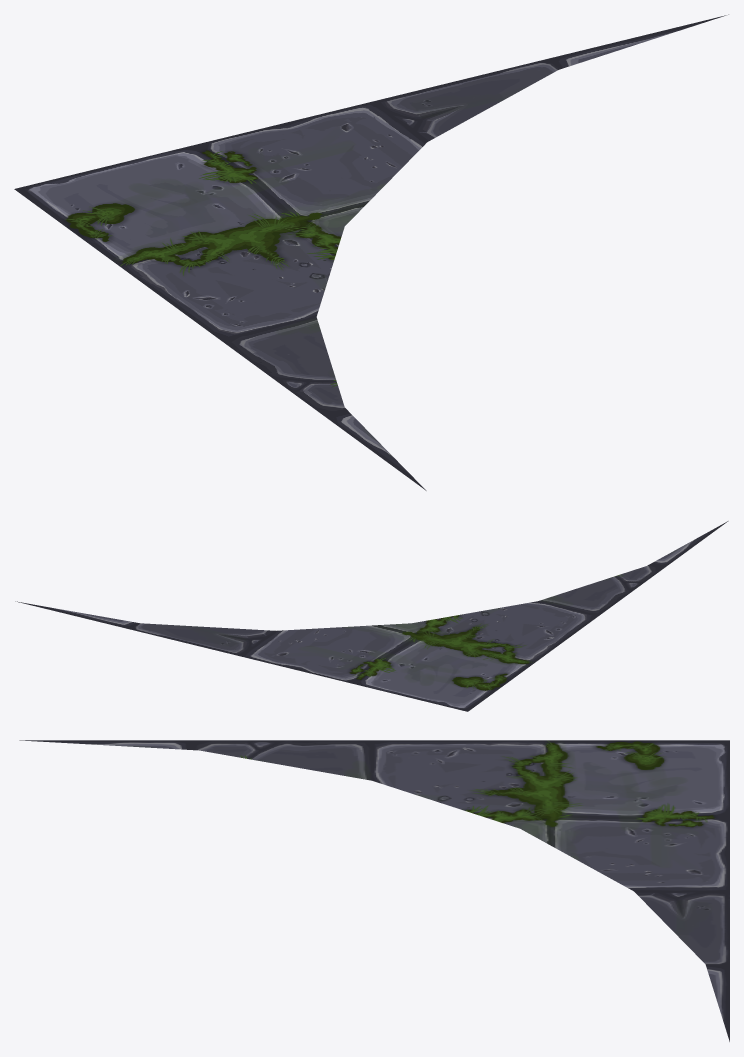
Rendered from MOD_Floor_01_O_concave_med.fbx.
The picture shows the model from 3 angles, top to bottom: view 1: azimuth 30°, elevation 25°; view 2: azimuth 150°, elevation 25°; view 3: azimuth 270°, elevation 25°; orthographic projection. The views are drawn at different scales.
Visible parts, largest first — view 1: MOD_Floor_01_O_concave_med; view 2: MOD_Floor_01_O_concave_med; view 3: MOD_Floor_01_O_concave_med.
Part boxes in pixels (bbox=[...]): MOD_Floor_01_O_concave_med: bbox=[14, 14, 728, 490]; MOD_Floor_01_O_concave_med: bbox=[15, 521, 728, 711]; MOD_Floor_01_O_concave_med: bbox=[19, 740, 729, 1041].
Size of the model in its own units: 400 by 1.7e-05 by 400.
